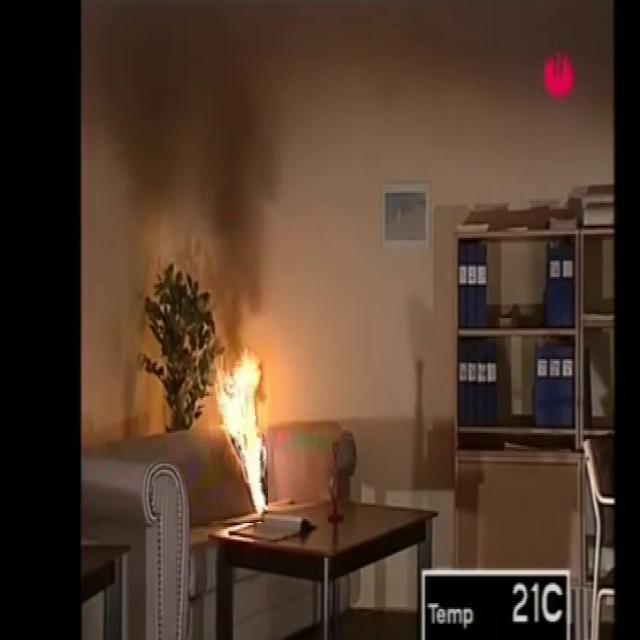fire: (84, 2, 280, 326)
smoke: (210, 348, 270, 519)
